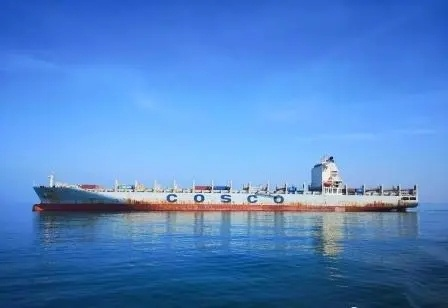Cargoship: (28, 152, 419, 215)
